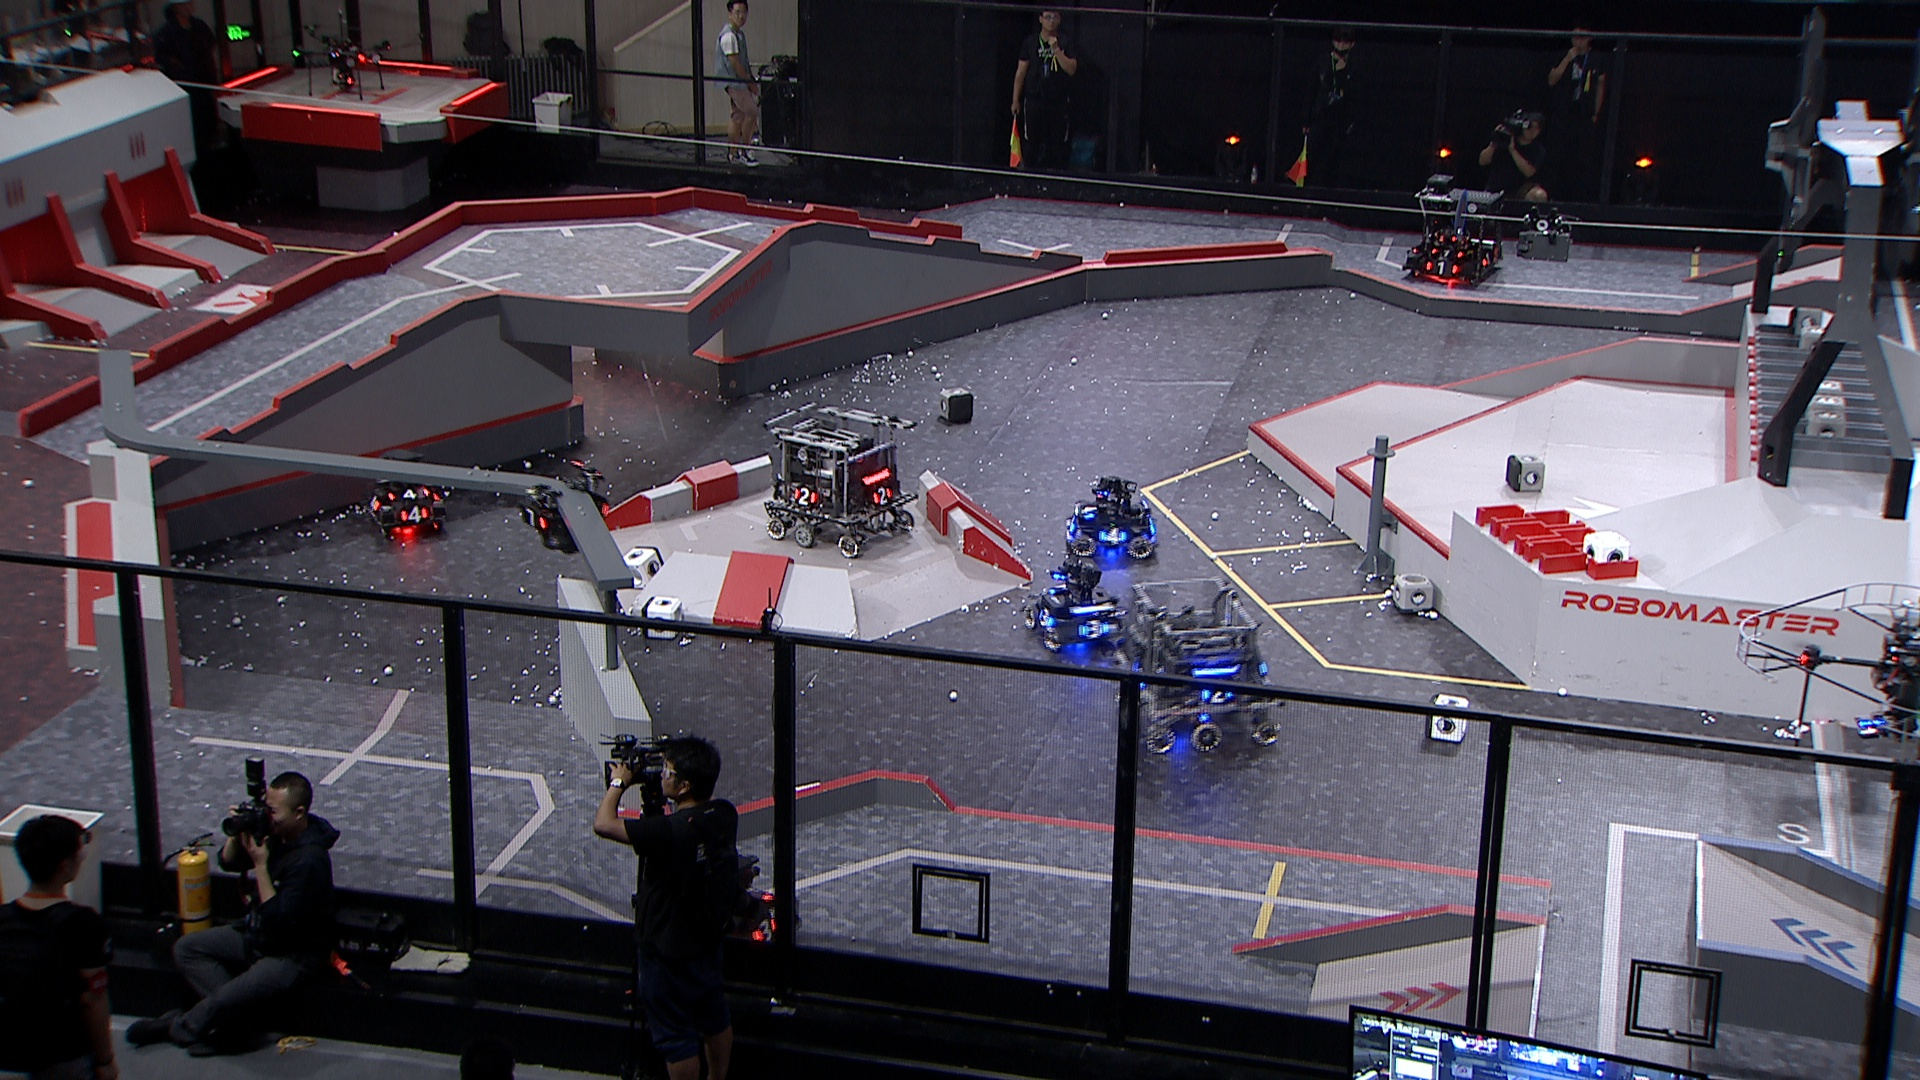armor: (517, 505, 549, 531), (749, 916, 779, 942), (384, 484, 430, 500), (1424, 258, 1461, 278), (398, 505, 429, 526), (790, 484, 818, 506), (1077, 618, 1106, 640), (1098, 527, 1126, 546), (1201, 687, 1233, 703), (869, 485, 894, 505), (1077, 498, 1098, 520), (1035, 607, 1055, 629), (1428, 245, 1465, 257), (367, 493, 382, 512), (1480, 252, 1495, 268)
car: (1109, 578, 1283, 756), (757, 401, 918, 560), (646, 849, 802, 963), (1400, 173, 1505, 286), (1019, 551, 1130, 655), (1059, 475, 1162, 559), (356, 448, 448, 541)
watcher: (513, 458, 611, 559)
